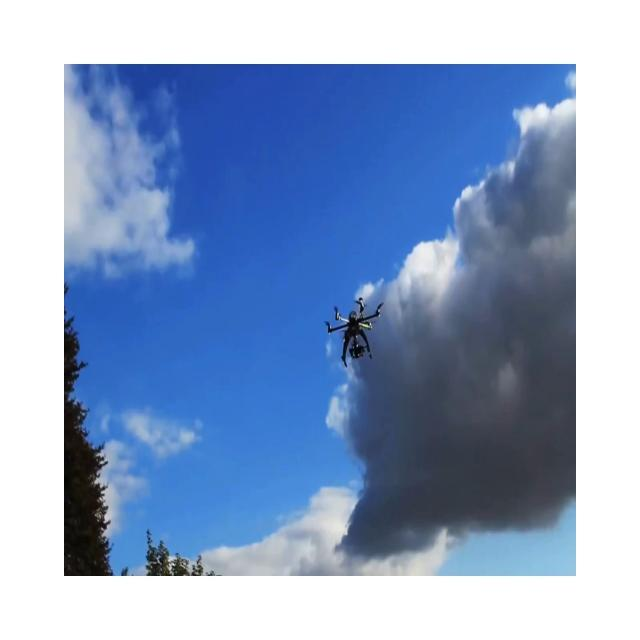drone: (324, 296, 384, 367)
